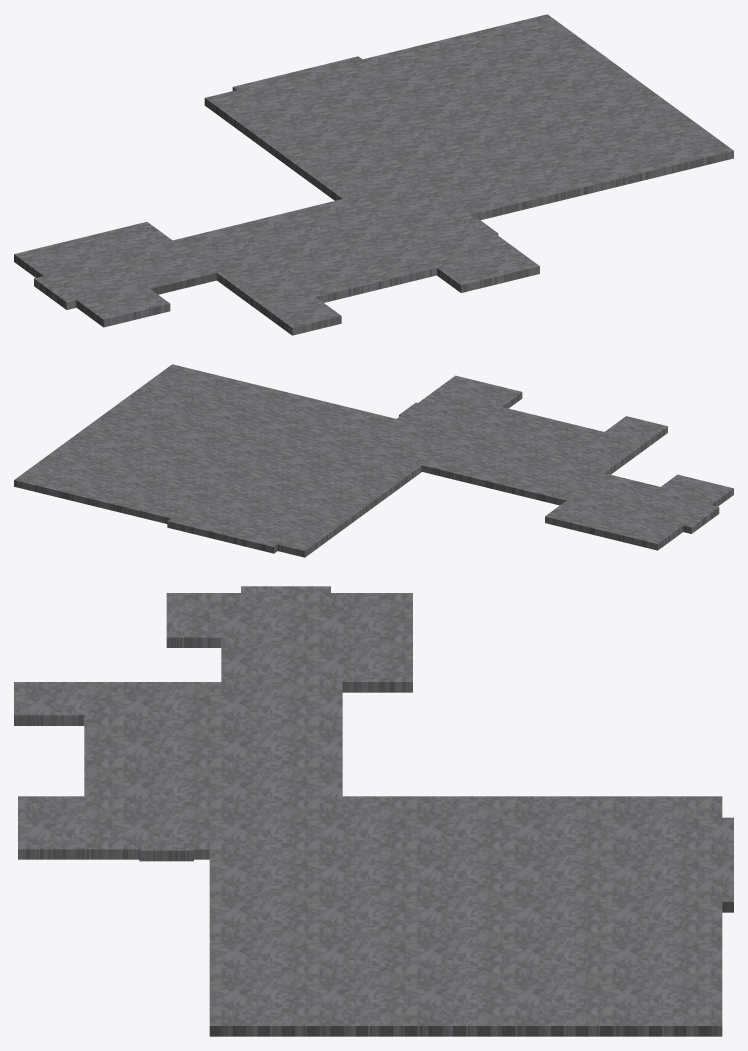
File: 1860_kitchen_Floor_Pier.gltf
The picture shows the model from 3 angles, top to bottom: view 1: azimuth 30°, elevation 25°; view 2: azimuth 150°, elevation 25°; view 3: azimuth 270°, elevation 25°; orthographic projection. The views are drawn at different scales.
Visible parts, largest first — view 1: Line23781; view 2: Line23781; view 3: Line23781.
Boxes of the visible parts, x1,y1,x2,y2 form: Line23781: (14, 14, 733, 335); Line23781: (14, 364, 733, 557); Line23781: (14, 586, 733, 1036).
Bounding box in the file's own units: 26.6 × 0.3 × 18.4.
